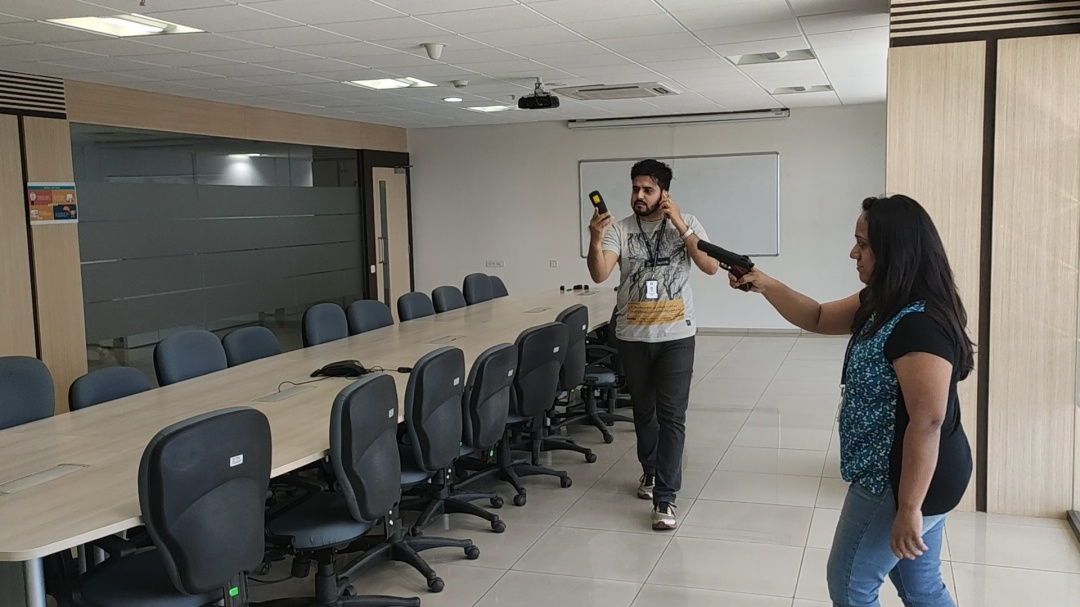gun: (696, 237, 755, 292)
